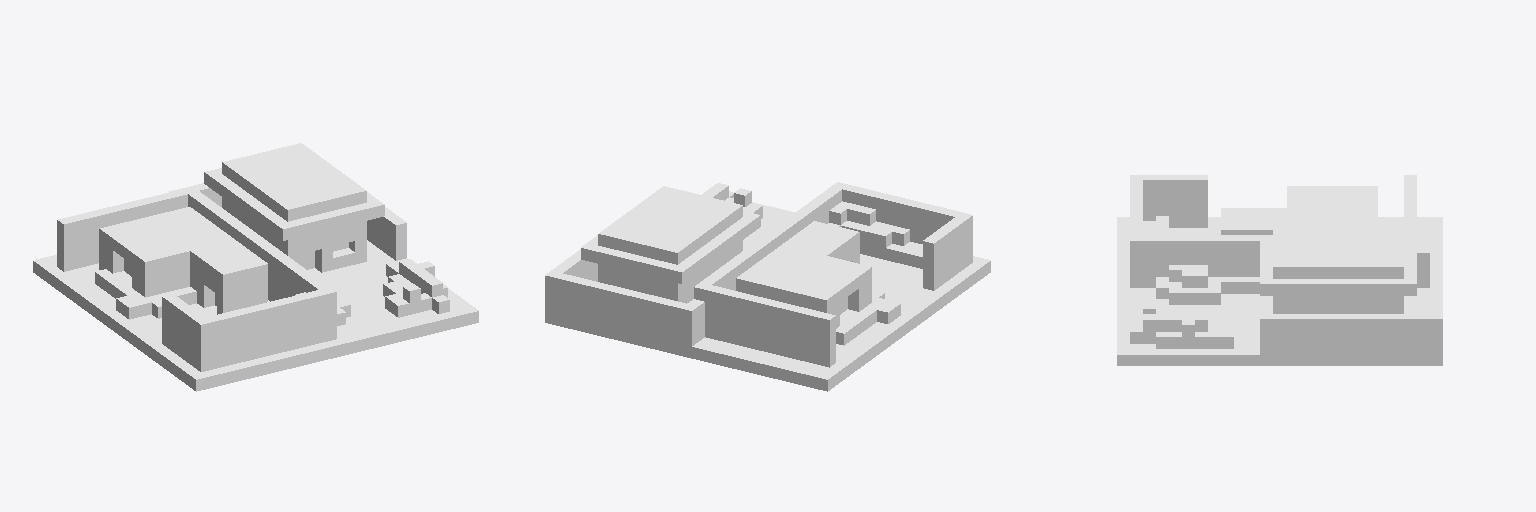
File: build16.obj
3 renders of one model, left to right at view 1: azimuth 30°, elevation 25°; view 2: azimuth 150°, elevation 25°; view 3: azimuth 270°, elevation 25°, orthographic.
Size of the model in its own units: 25 by 7 by 25.